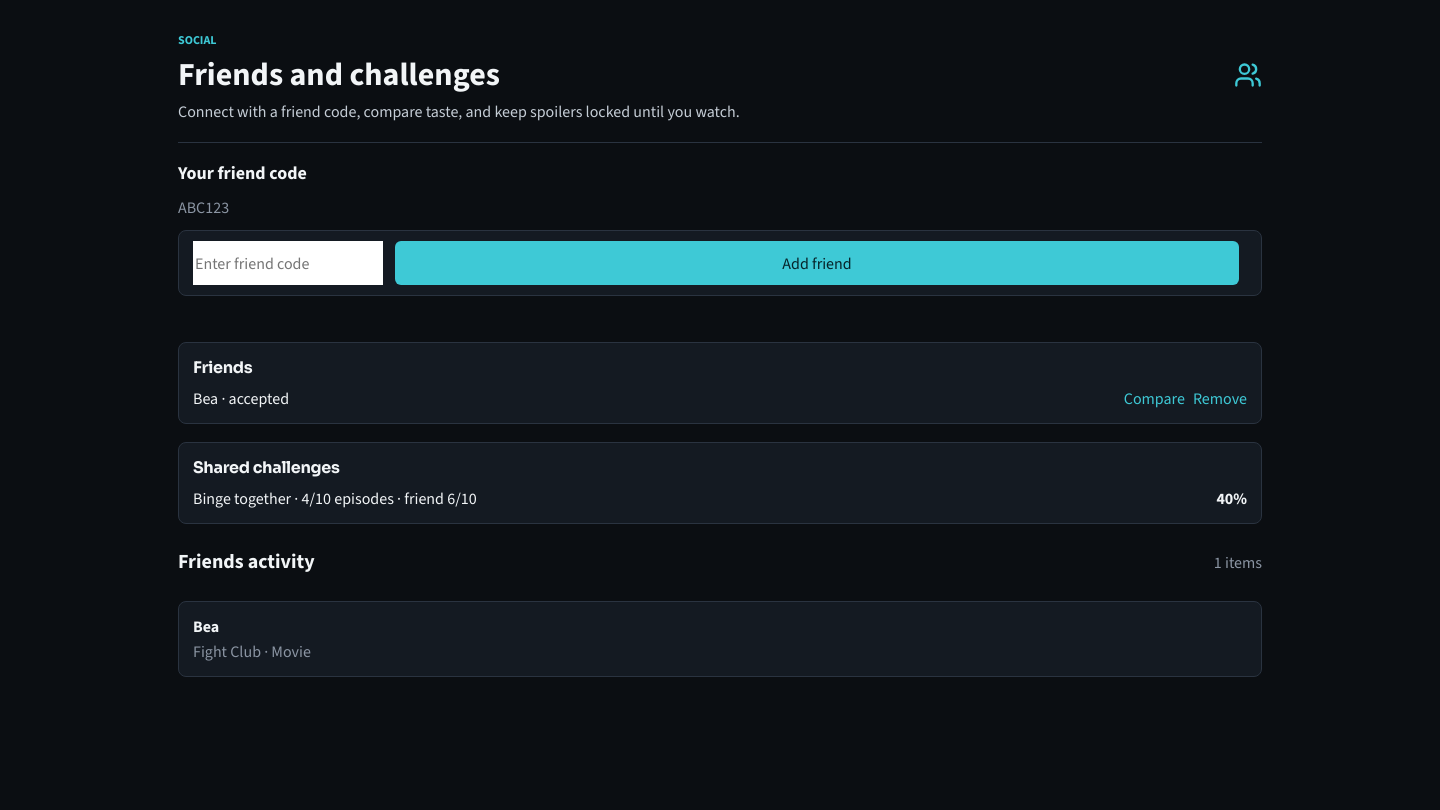
SocialPage › loads compatibility when comparing a friend
Click the button "Compare": [1154, 398] box [1124,388,1185,409]
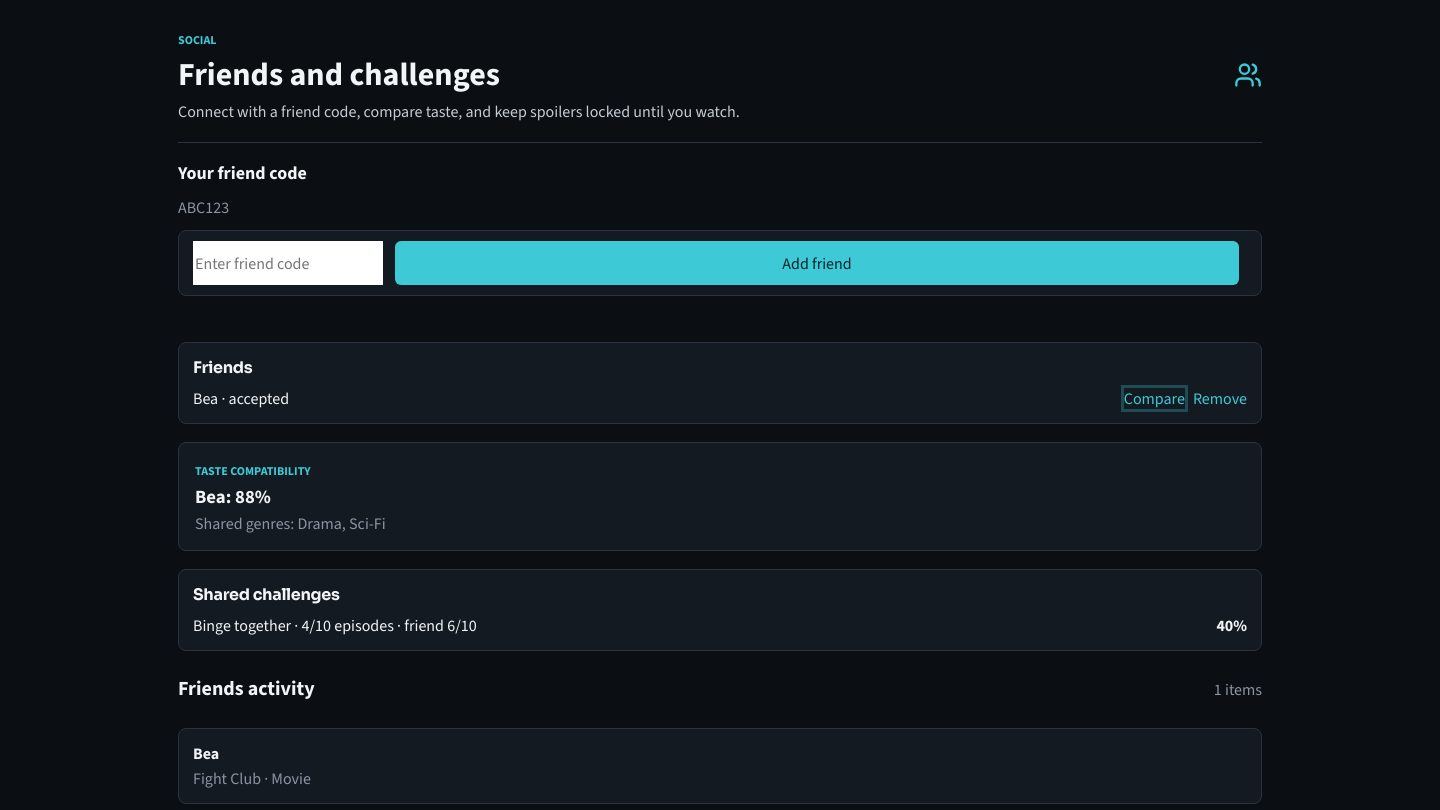
Expected: the element with test id "compatibility-card" shows "88%", [178,442,1262,551]
